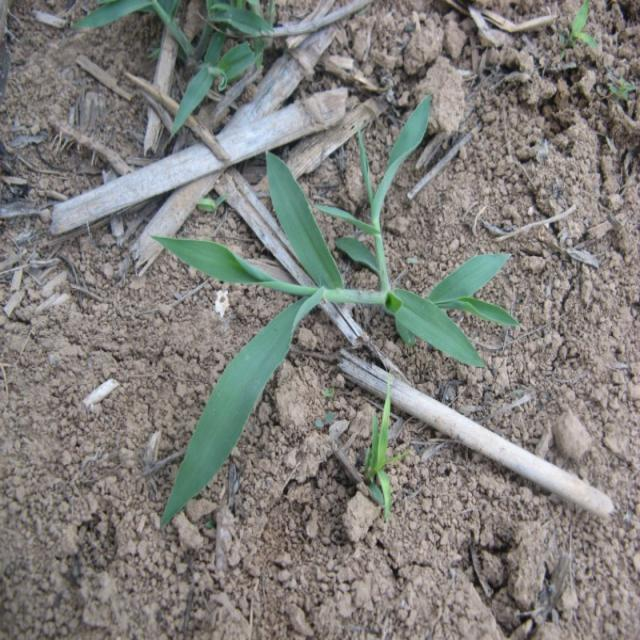bg: (156, 91, 515, 520)
